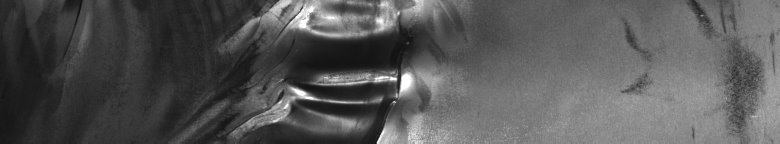ke: (190, 4, 424, 136)
